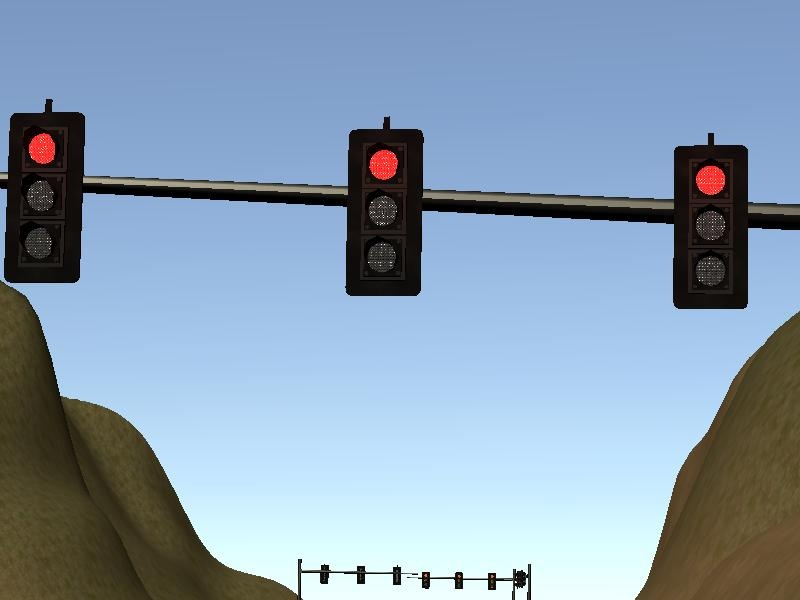RED: (8, 112, 84, 284), (345, 127, 421, 299), (674, 143, 747, 309)
